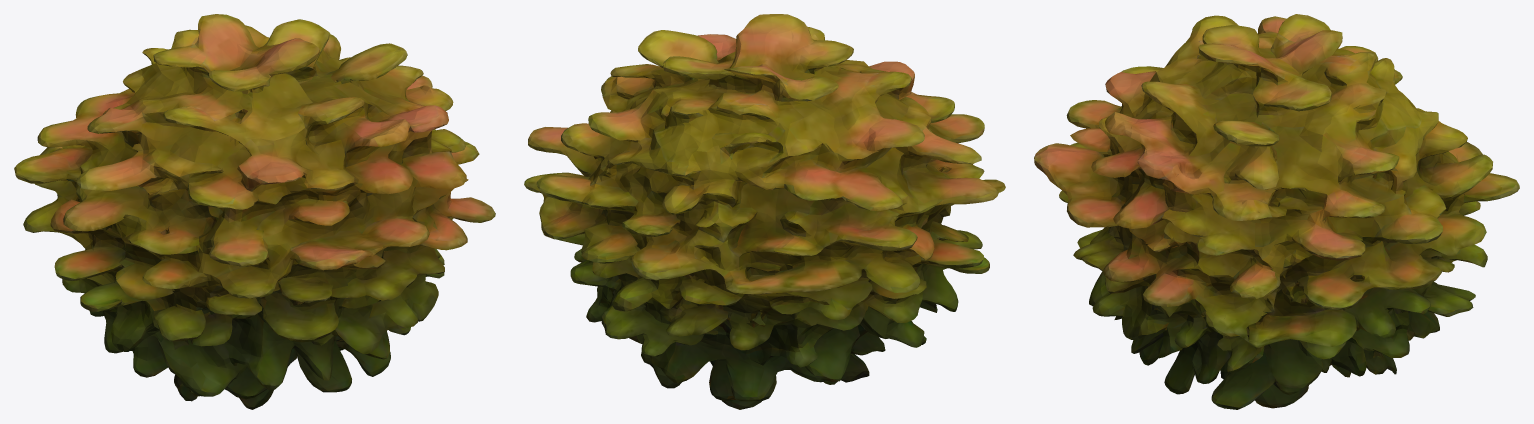
The model's file is bush.glb.
3 renders of one model, left to right at view 1: azimuth 30°, elevation 25°; view 2: azimuth 150°, elevation 25°; view 3: azimuth 270°, elevation 25°, orthographic.
Parts seen in each view (by area): view 1: world; view 2: world; view 3: world.
Part boxes in pixels (bbox=[...]): world: bbox=[14, 14, 495, 409]; world: bbox=[524, 14, 1005, 409]; world: bbox=[1034, 14, 1519, 409].
Bounding box in the file's own units: 0.9952 × 0.7451 × 0.9983.
Materials: 1 (1 with a texture image).
